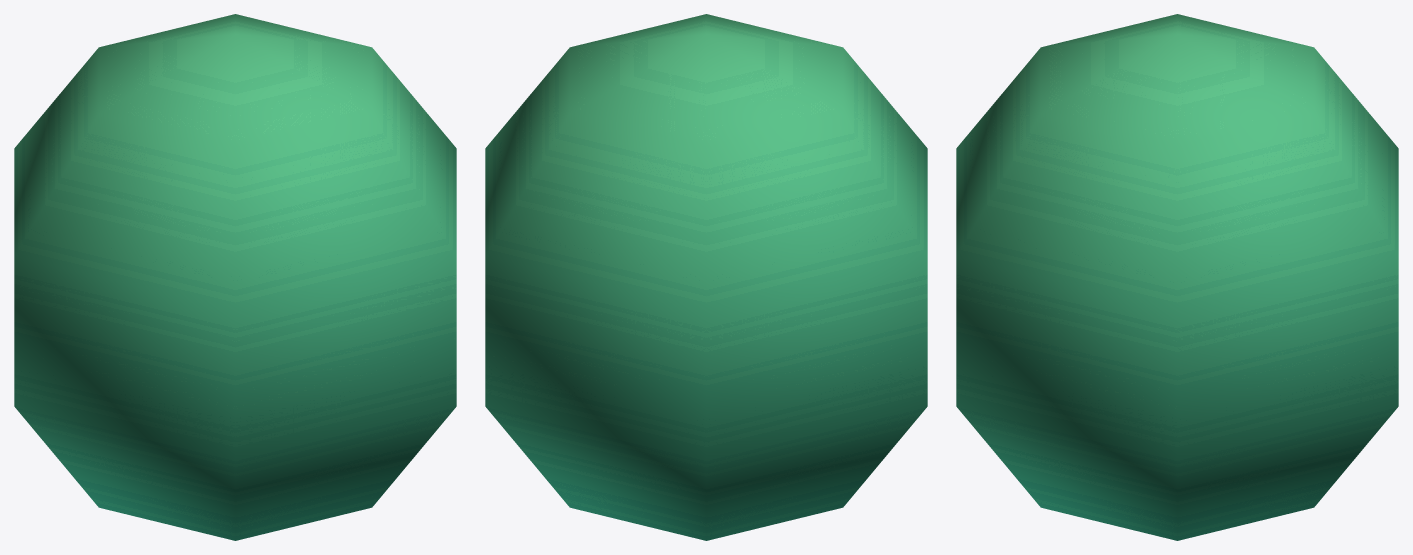
File: cannon-ball-ghost.glb
The picture shows the model from 3 angles, left to right: view 1: azimuth 30°, elevation 25°; view 2: azimuth 150°, elevation 25°; view 3: azimuth 270°, elevation 25°; orthographic projection.
Parts seen in each view (by area): view 1: cannon-ball; view 2: cannon-ball; view 3: cannon-ball.
Boxes of the visible parts, <box> form: cannon-ball: <box>14,14,456,540</box>; cannon-ball: <box>485,14,927,540</box>; cannon-ball: <box>956,14,1398,540</box>.
Bounding box in the file's own units: 0.6372 × 0.67 × 0.5518.
1 material, 1 textured.
